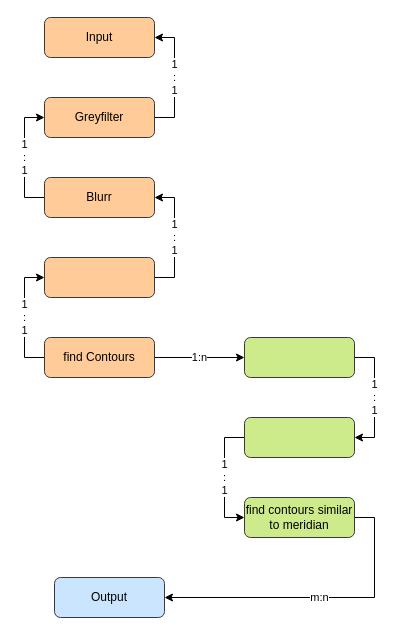
Image size: 400x635. Some labels were removed from this diagram. The centre of each missing label's shape, as x and y in pixels:
calculate meridian of all contours: point (299, 437)
calculate parameter: point (299, 357)
Threshold: point (99, 277)
